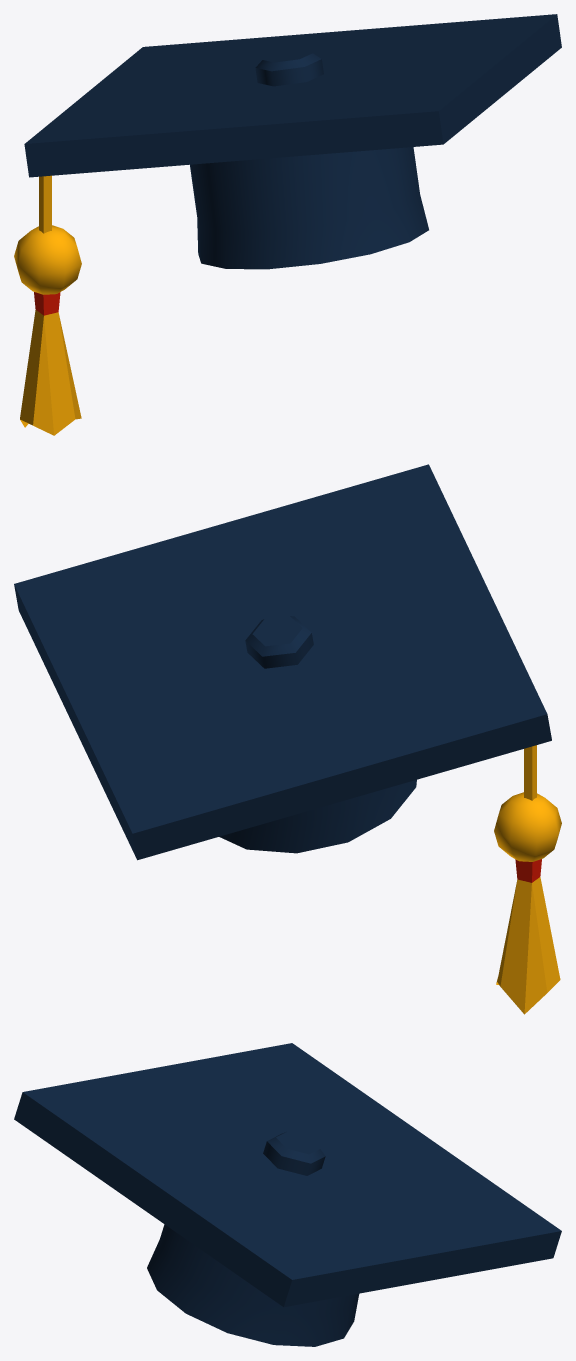
File: Student_hat.fbx
The picture shows the model from 3 angles, top to bottom: view 1: azimuth 30°, elevation 25°; view 2: azimuth 150°, elevation 25°; view 3: azimuth 270°, elevation 25°; orthographic projection. The views are drawn at different scales.
Visible parts, largest first — view 1: Student_hat; view 2: Student_hat; view 3: Student_hat.
Boxes of the visible parts, x1,y1,x2,y2 form: Student_hat: (14, 14, 561, 435); Student_hat: (14, 464, 561, 1014); Student_hat: (14, 1043, 561, 1346).
Bounding box in the file's own units: 1.17 × 0.7636 × 1.12.
